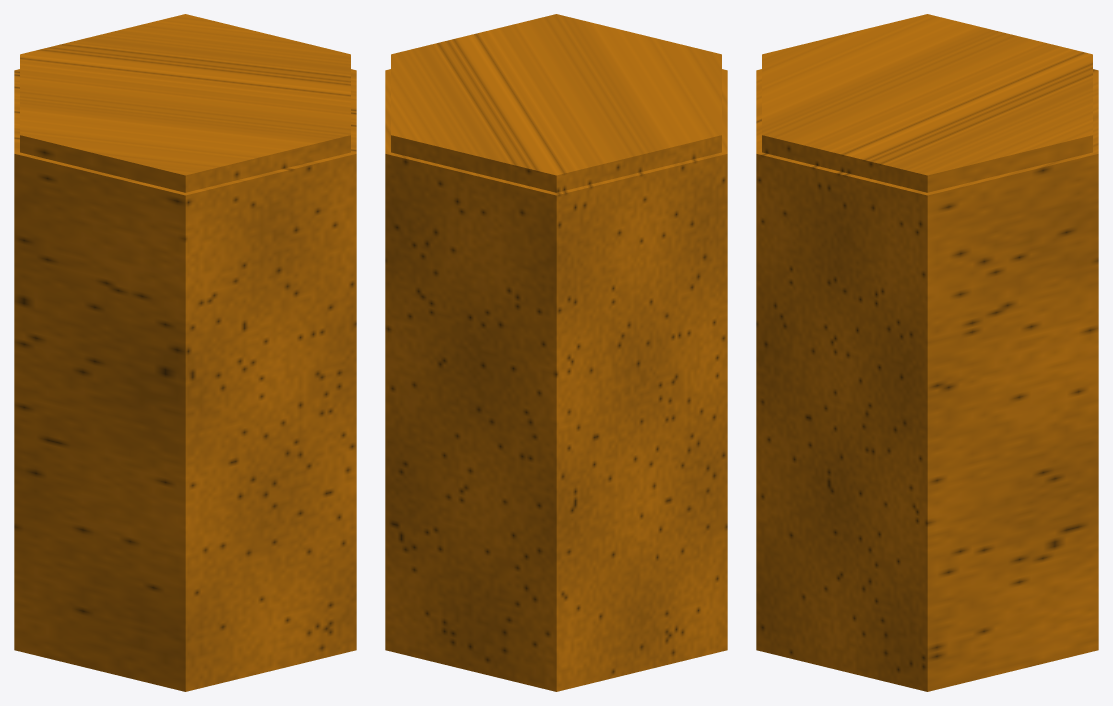
Rendered from PROP-1D0869785A01_lod2.glb.
The picture shows the model from 3 angles, left to right: view 1: azimuth 30°, elevation 25°; view 2: azimuth 150°, elevation 25°; view 3: azimuth 270°, elevation 25°; orthographic projection.
Parts seen in each view (by area): view 1: barrel_body.001, barrel_lid.001; view 2: barrel_body.001, barrel_lid.001; view 3: barrel_body.001, barrel_lid.001.
Boxes of the visible parts, bbox=[...] form: barrel_body.001: bbox=[14, 69, 356, 691]; barrel_lid.001: bbox=[20, 14, 350, 192]; barrel_body.001: bbox=[385, 69, 727, 691]; barrel_lid.001: bbox=[391, 14, 721, 192]; barrel_body.001: bbox=[756, 69, 1098, 691]; barrel_lid.001: bbox=[762, 14, 1092, 192].
Bounding box in the file's own units: 0.62 × 0.89 × 0.5369.
Materials: 1 (1 with a texture image).
